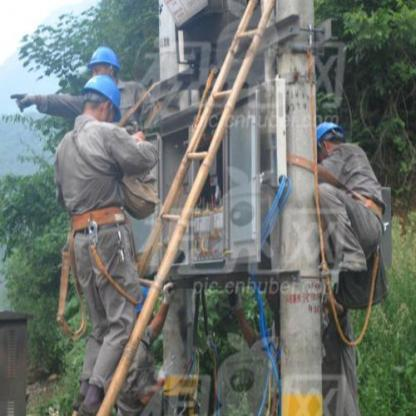helmet: (77, 70, 121, 125), (88, 45, 121, 84), (314, 118, 344, 157)
